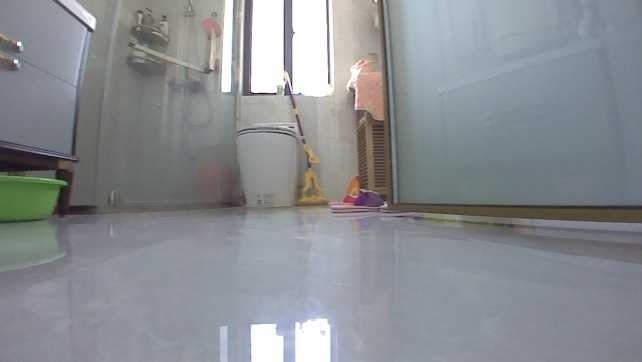door_anno: (372, 0, 641, 225)
slipper: (324, 186, 390, 214)
toilet: (231, 119, 303, 208)
washstand: (0, 0, 100, 169)
